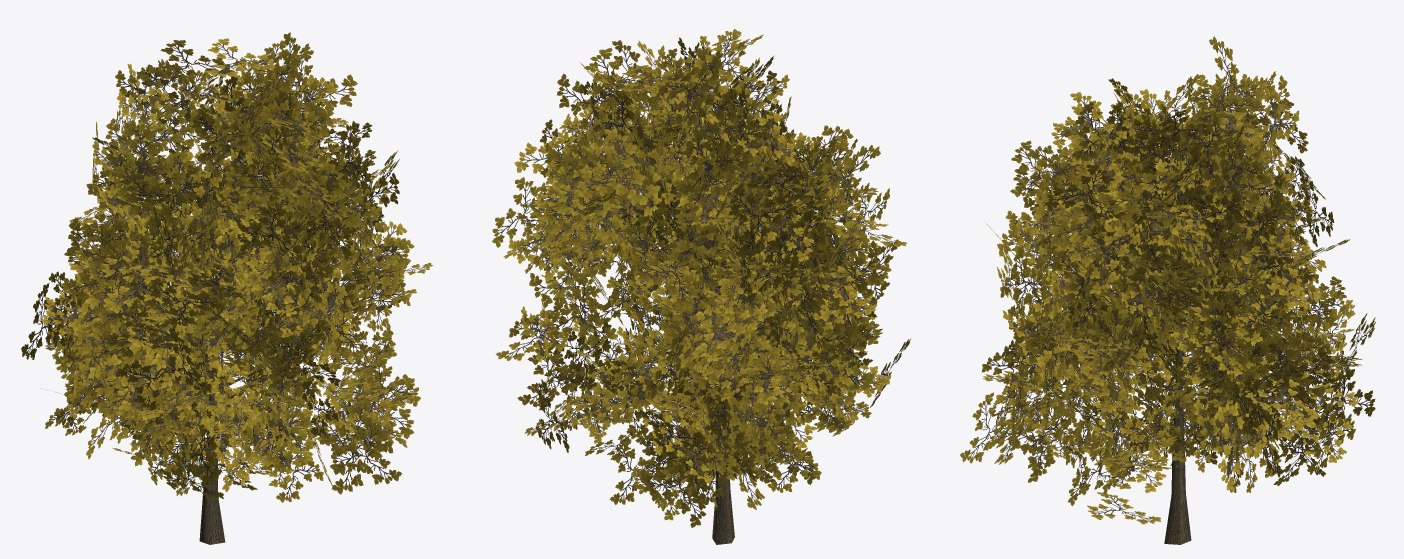
The model's file is Tilia_Cordata_Autumn_Young.glb.
The picture shows the model from 3 angles, left to right: view 1: azimuth 30°, elevation 25°; view 2: azimuth 150°, elevation 25°; view 3: azimuth 270°, elevation 25°; orthographic projection. The views are drawn at different scales.
Parts seen in each view (by area): view 1: Tilia_Cordata_Autumn_Young__LOD3; view 2: Tilia_Cordata_Autumn_Young__LOD3; view 3: Tilia_Cordata_Autumn_Young__LOD3.
Part boxes in pixels (box(x1,y1,x2,y2)): Tilia_Cordata_Autumn_Young__LOD3: box(21, 32, 432, 544); Tilia_Cordata_Autumn_Young__LOD3: box(492, 29, 910, 544); Tilia_Cordata_Autumn_Young__LOD3: box(960, 36, 1375, 544).
Size of the model in its own units: 10.6 by 14.1 by 10.94.
2 materials, 2 textured.
